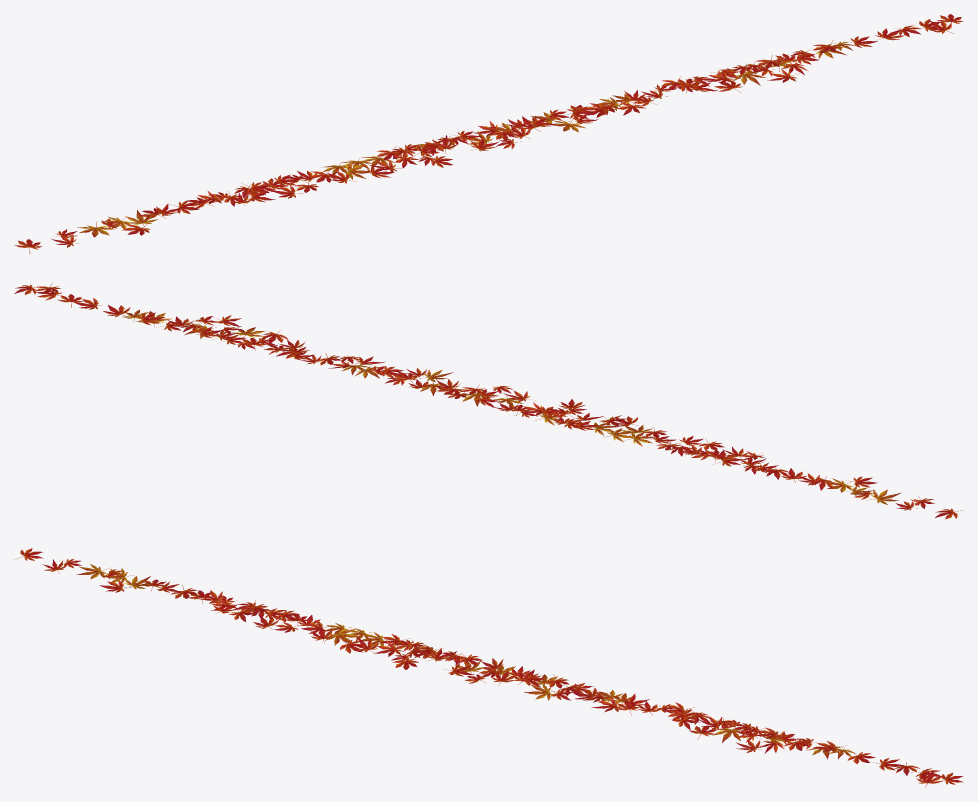
The picture shows the model from 3 angles, top to bottom: view 1: azimuth 30°, elevation 25°; view 2: azimuth 150°, elevation 25°; view 3: azimuth 330°, elevation 25°; orthographic projection.
Visible parts, largest first — view 1: ScatterMaple_High02.Shape; view 2: ScatterMaple_High02.Shape; view 3: ScatterMaple_High02.Shape.
Boxes of the visible parts, left/top/right/bottom form: ScatterMaple_High02.Shape: left=14, top=14, right=963, bottom=253; ScatterMaple_High02.Shape: left=14, top=282, right=963, bottom=519; ScatterMaple_High02.Shape: left=14, top=548, right=963, bottom=787.
Bounding box in the file's own units: 620 × 3.97 × 36.58.
Materials: 2 (2 with a texture image).
